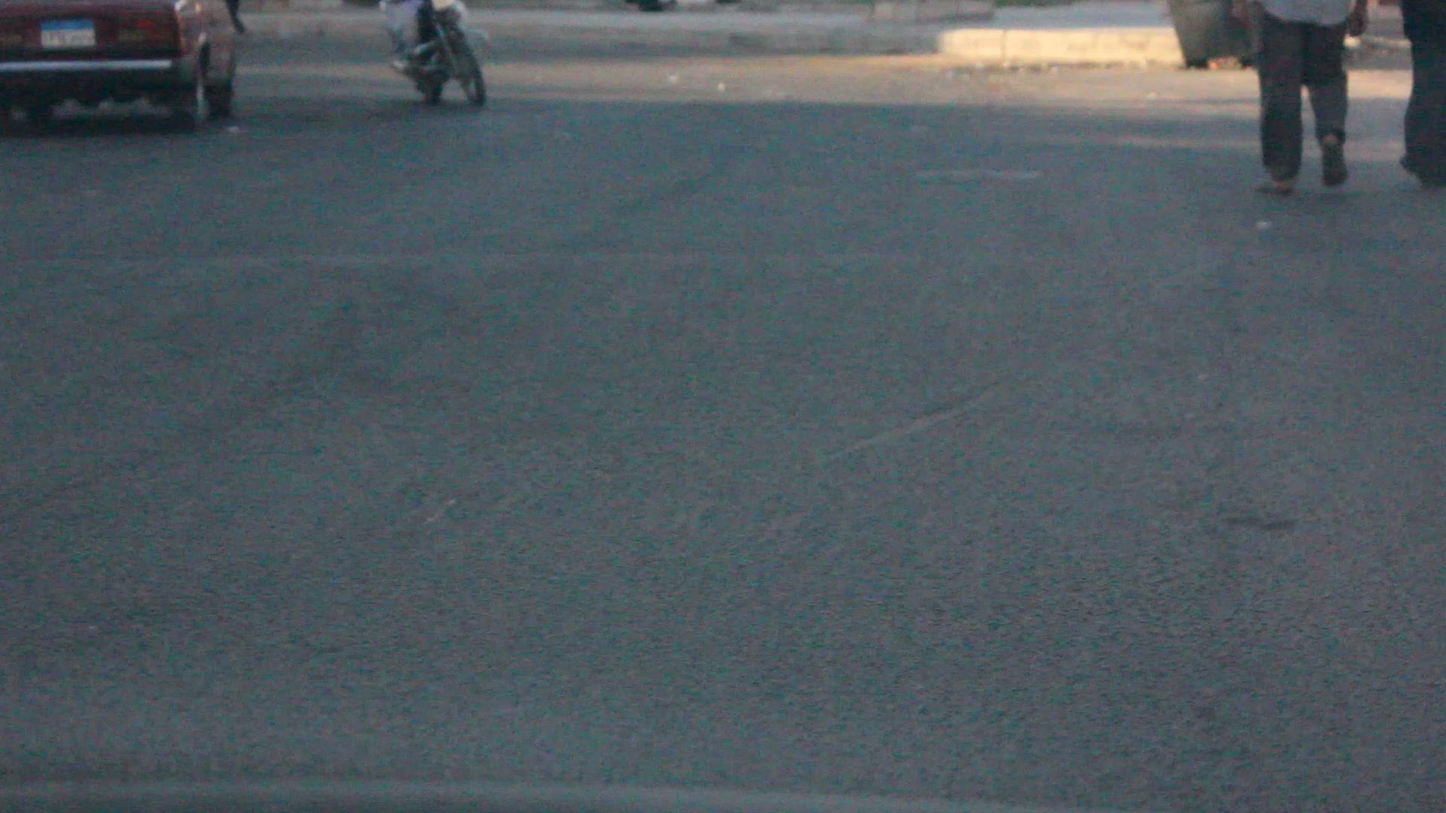Bump: (0, 243, 1445, 375)
